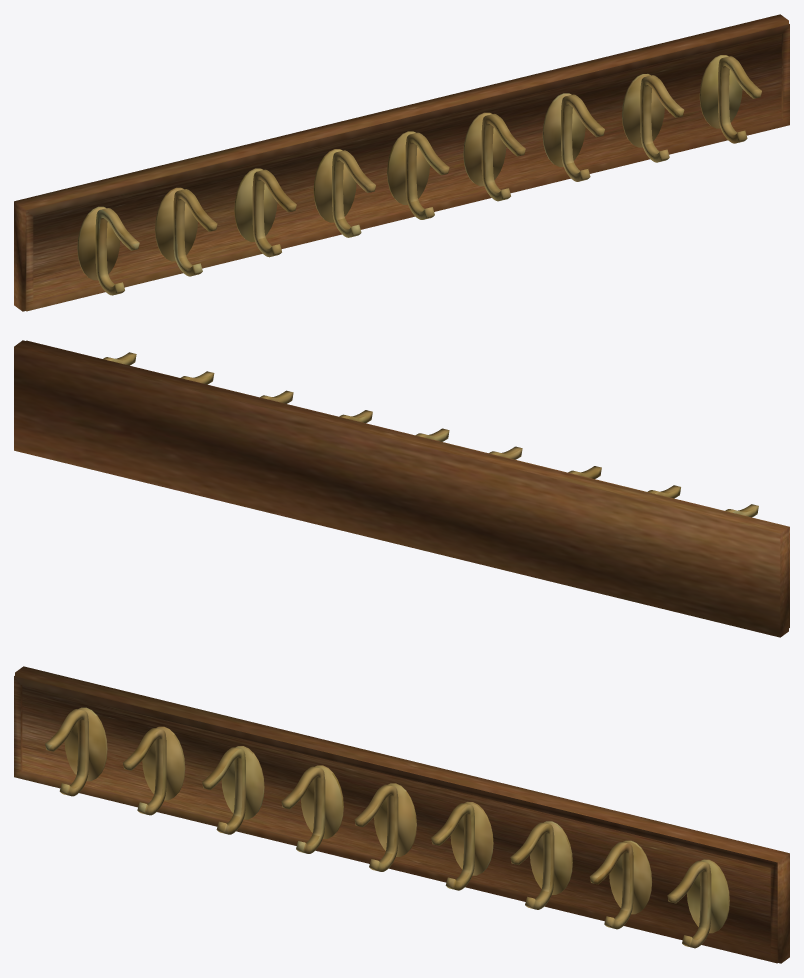
File: coat_rack.obj
3 views of the same model, one above another, from view 1: azimuth 30°, elevation 25°; view 2: azimuth 150°, elevation 25°; view 3: azimuth 330°, elevation 25° (orthographic).
Visible parts, largest first — view 1: coat_rack.obj; view 2: coat_rack.obj; view 3: coat_rack.obj.
Part boxes in pixels (box(x1,y1,x2,y2)): coat_rack.obj: box(14, 14, 789, 311); coat_rack.obj: box(14, 340, 789, 637); coat_rack.obj: box(14, 666, 789, 963).
Size of the model in its own units: 10.45 by 1.35 by 1.17.
